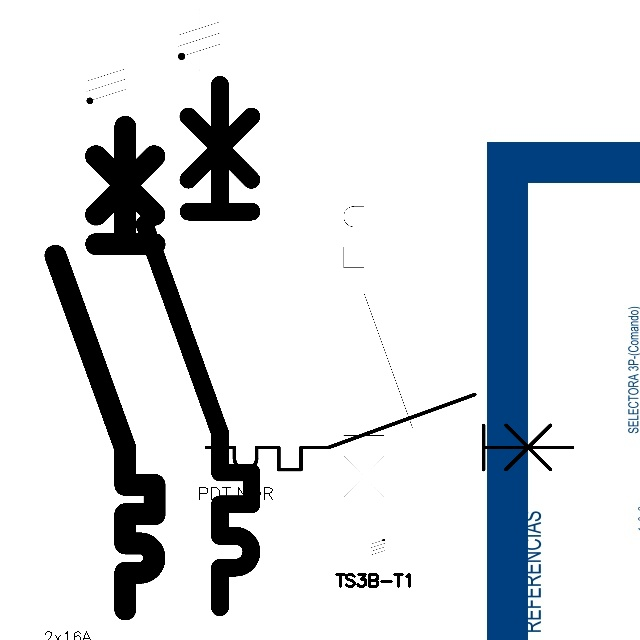interruptor_termomagnetico: (131, 71, 265, 621), (43, 114, 167, 622), (197, 385, 582, 479), (335, 172, 421, 526)
